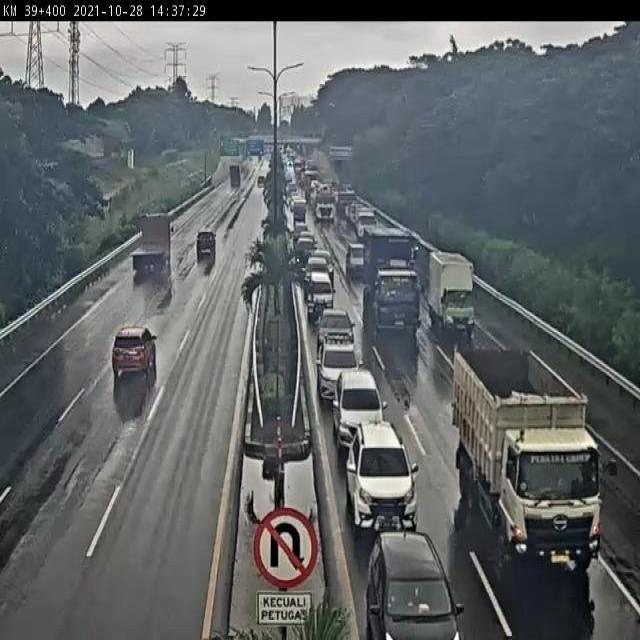car: (371, 532, 461, 640), (346, 439, 416, 531), (336, 368, 387, 445), (109, 320, 159, 383), (314, 306, 358, 365), (306, 255, 334, 302), (306, 272, 334, 312), (293, 233, 318, 264), (305, 254, 332, 282), (306, 251, 331, 274), (195, 231, 215, 259), (295, 232, 315, 255), (308, 248, 329, 264)
truck: (451, 353, 603, 560), (357, 231, 422, 338), (426, 247, 478, 339), (133, 206, 176, 281)
